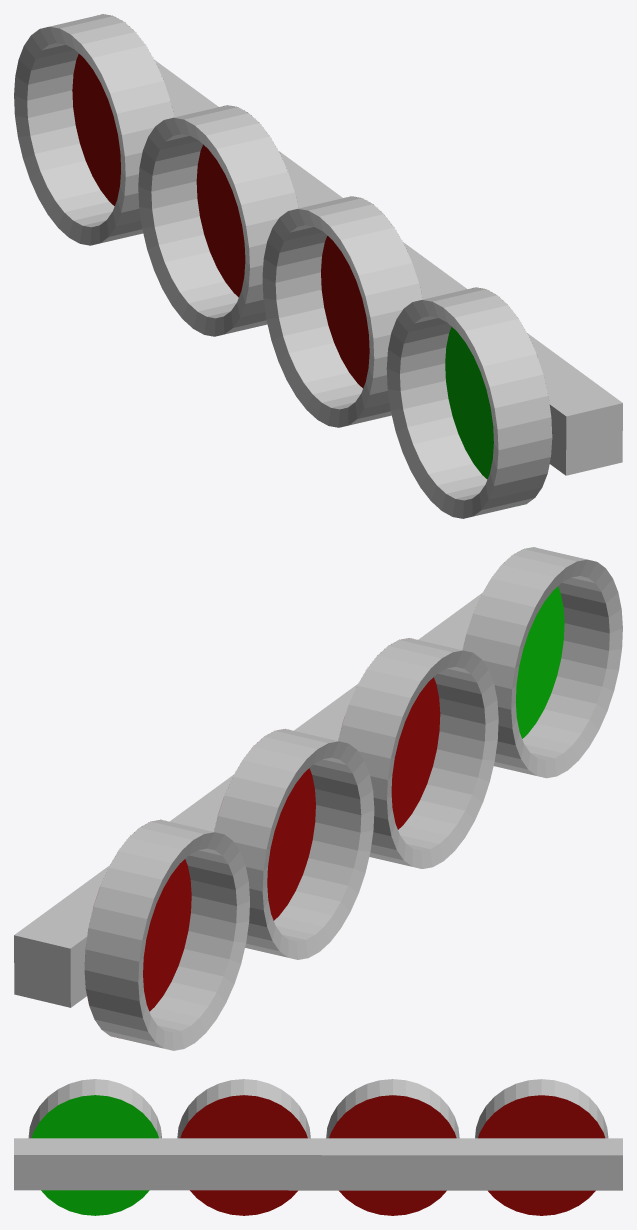
The model's file is Semaforo.obj.
3 views of the same model, one above another, from view 1: azimuth 30°, elevation 25°; view 2: azimuth 150°, elevation 25°; view 3: azimuth 270°, elevation 25° (orthographic). The views are drawn at different scales.
Parts seen in each view (by area): view 1: Círculo.003_Círculo.010; view 2: Círculo.003_Círculo.010; view 3: Círculo.003_Círculo.010.
Boxes of the visible parts, box(x1,y1,x2,y2) form: Círculo.003_Círculo.010: box(14, 14, 622, 518); Círculo.003_Círculo.010: box(14, 547, 622, 1050); Círculo.003_Círculo.010: box(14, 1079, 622, 1215).
Size of the model in its own units: 0.7927 by 1.35 by 6.14.
